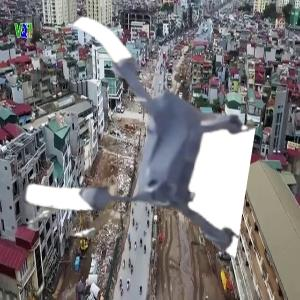drone: (22, 14, 256, 248)
